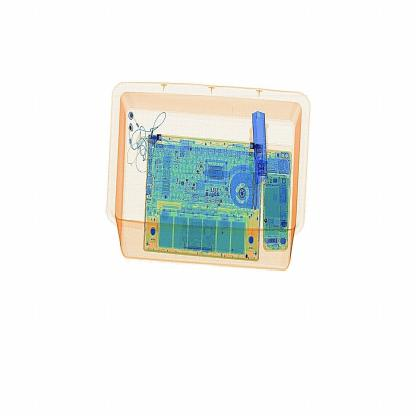pliers: (251, 104, 272, 184)
